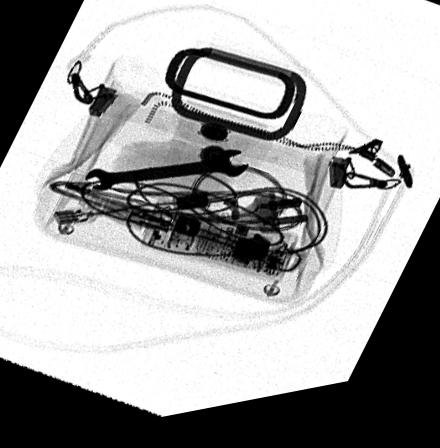Wrench: (82, 157, 252, 195)
